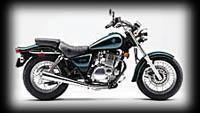motorcycle: (9, 8, 189, 106)
